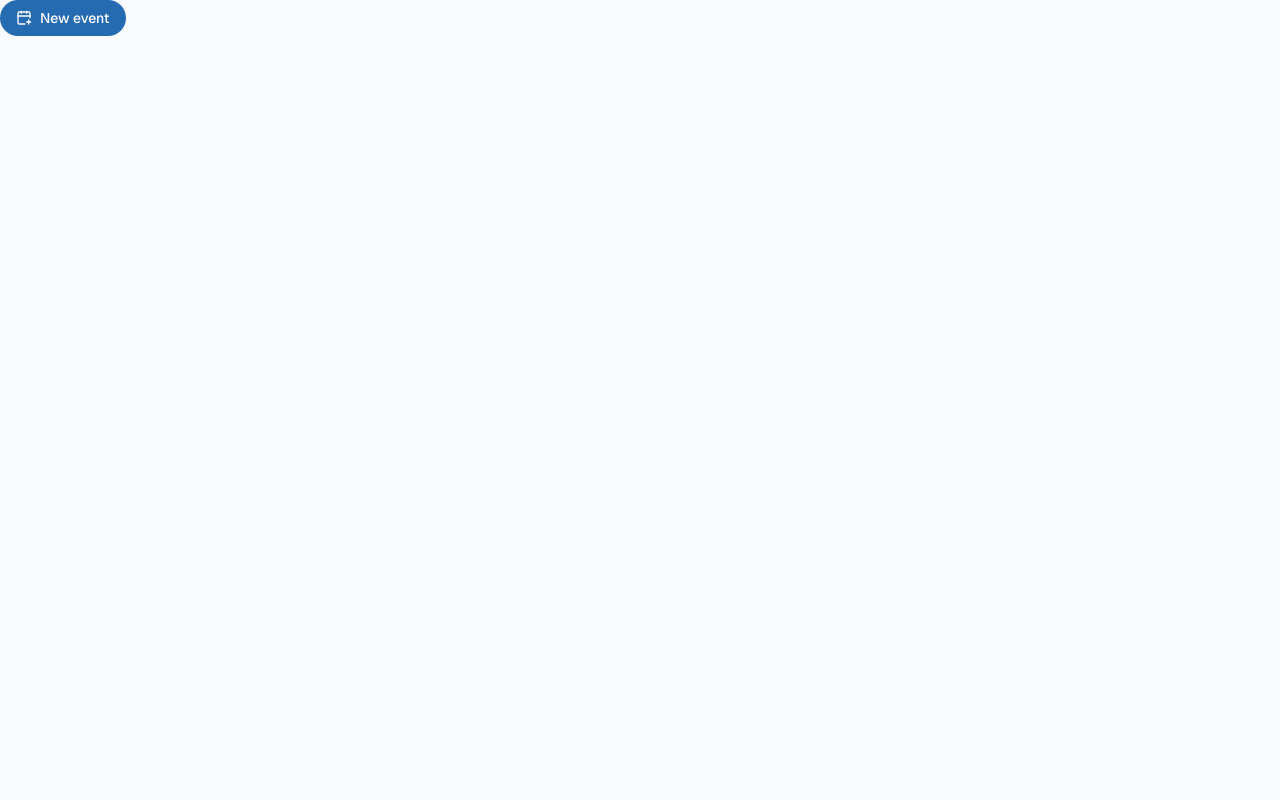
event dialog › restores the draft after consent and waits for an explicit second save
This screenshot has width=1280, height=800.
Later steps or results of the test are not shown.
Click the button "New event" at (63, 18), box [0,0,126,36]
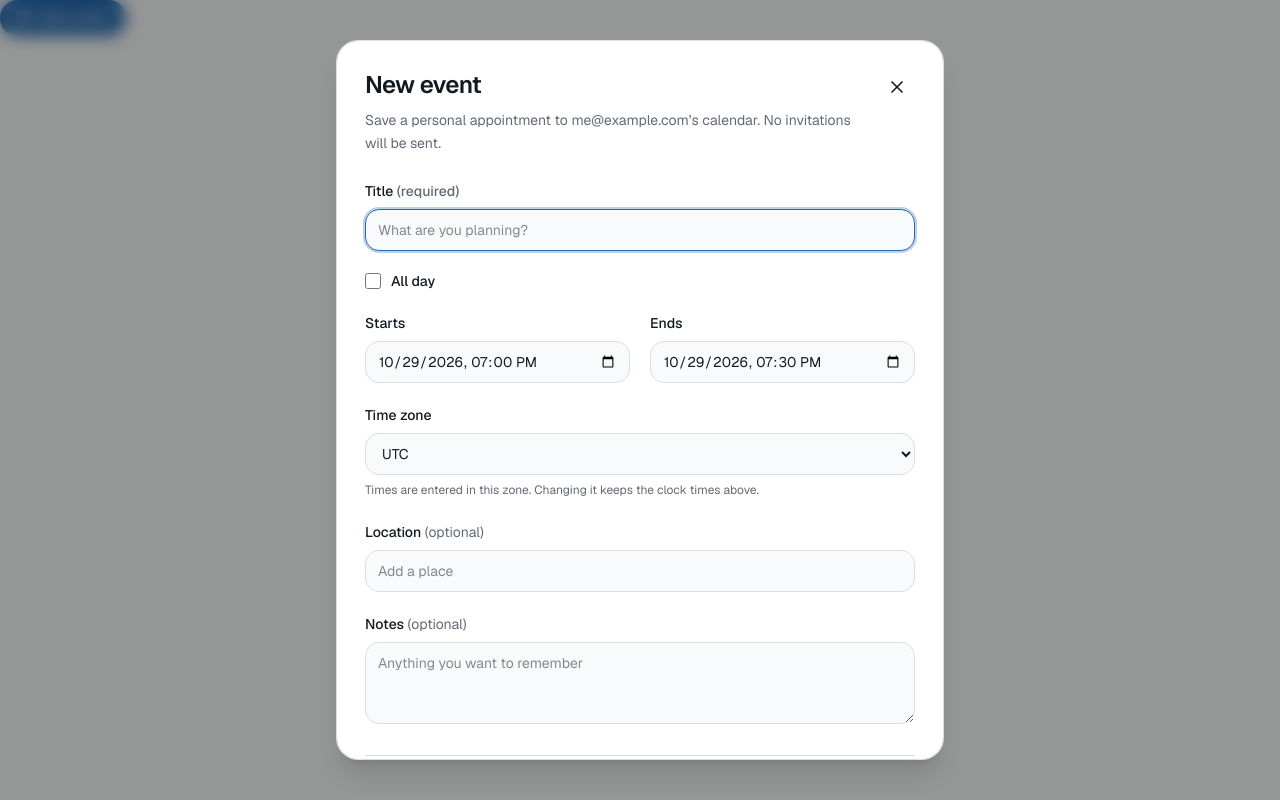
Check: the dropdown labelled "Time zone" is enabled, box [365,432,915,474]
